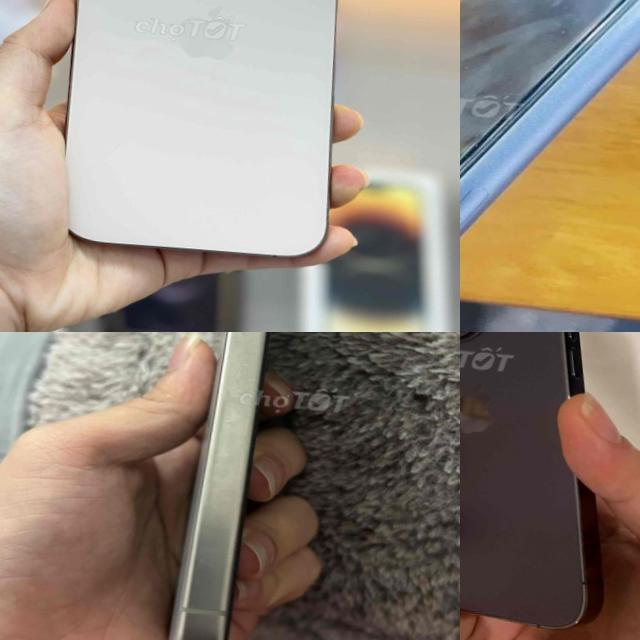gen_11: (460, 0, 640, 332)
gen_14: (460, 332, 640, 640)
gen_15: (155, 332, 319, 640)
gen_16: (32, 0, 381, 272)
